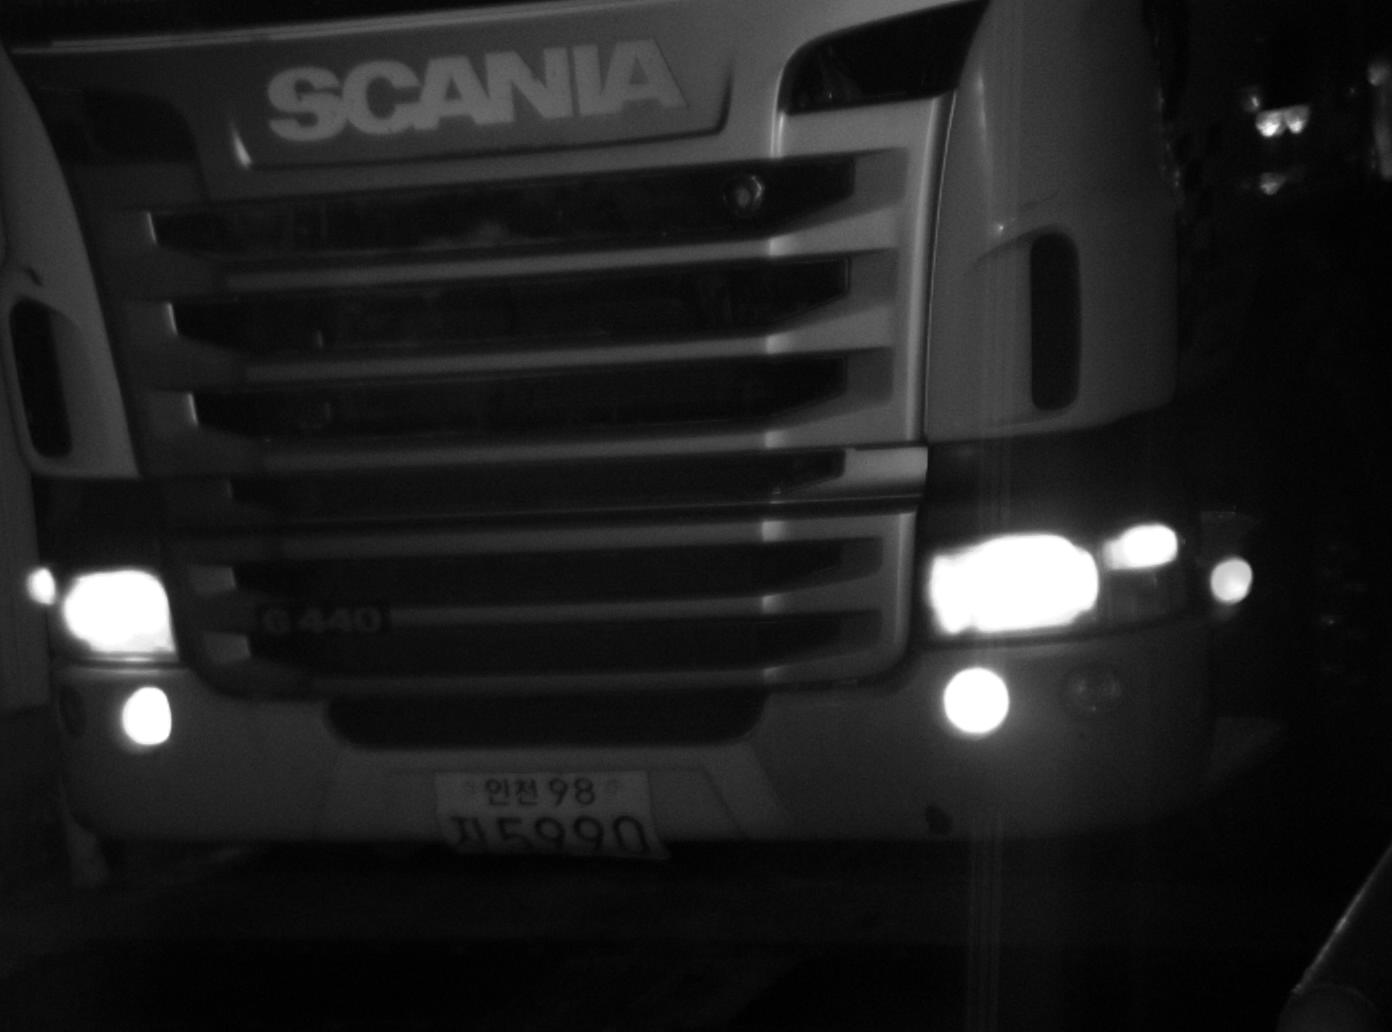car: (2, 1, 1389, 882)
plate: (428, 768, 671, 872)
